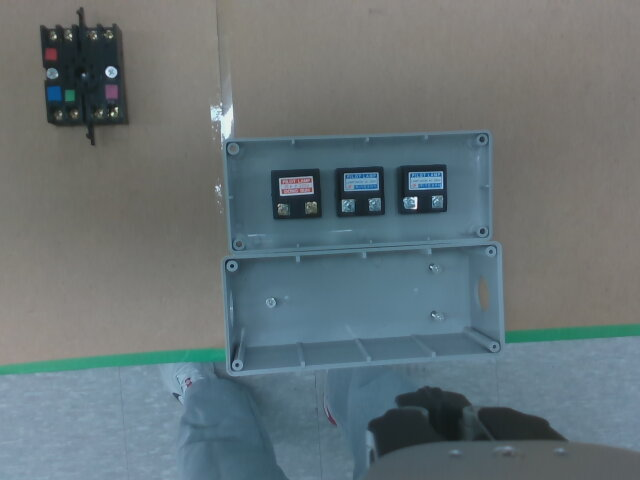L1 1: (277, 204, 290, 216)
L1 2: (305, 201, 317, 214)
L2 1: (342, 199, 355, 212)
L2 2: (368, 198, 381, 211)
L3 1: (404, 197, 417, 209)
L3 2: (432, 196, 444, 208)
